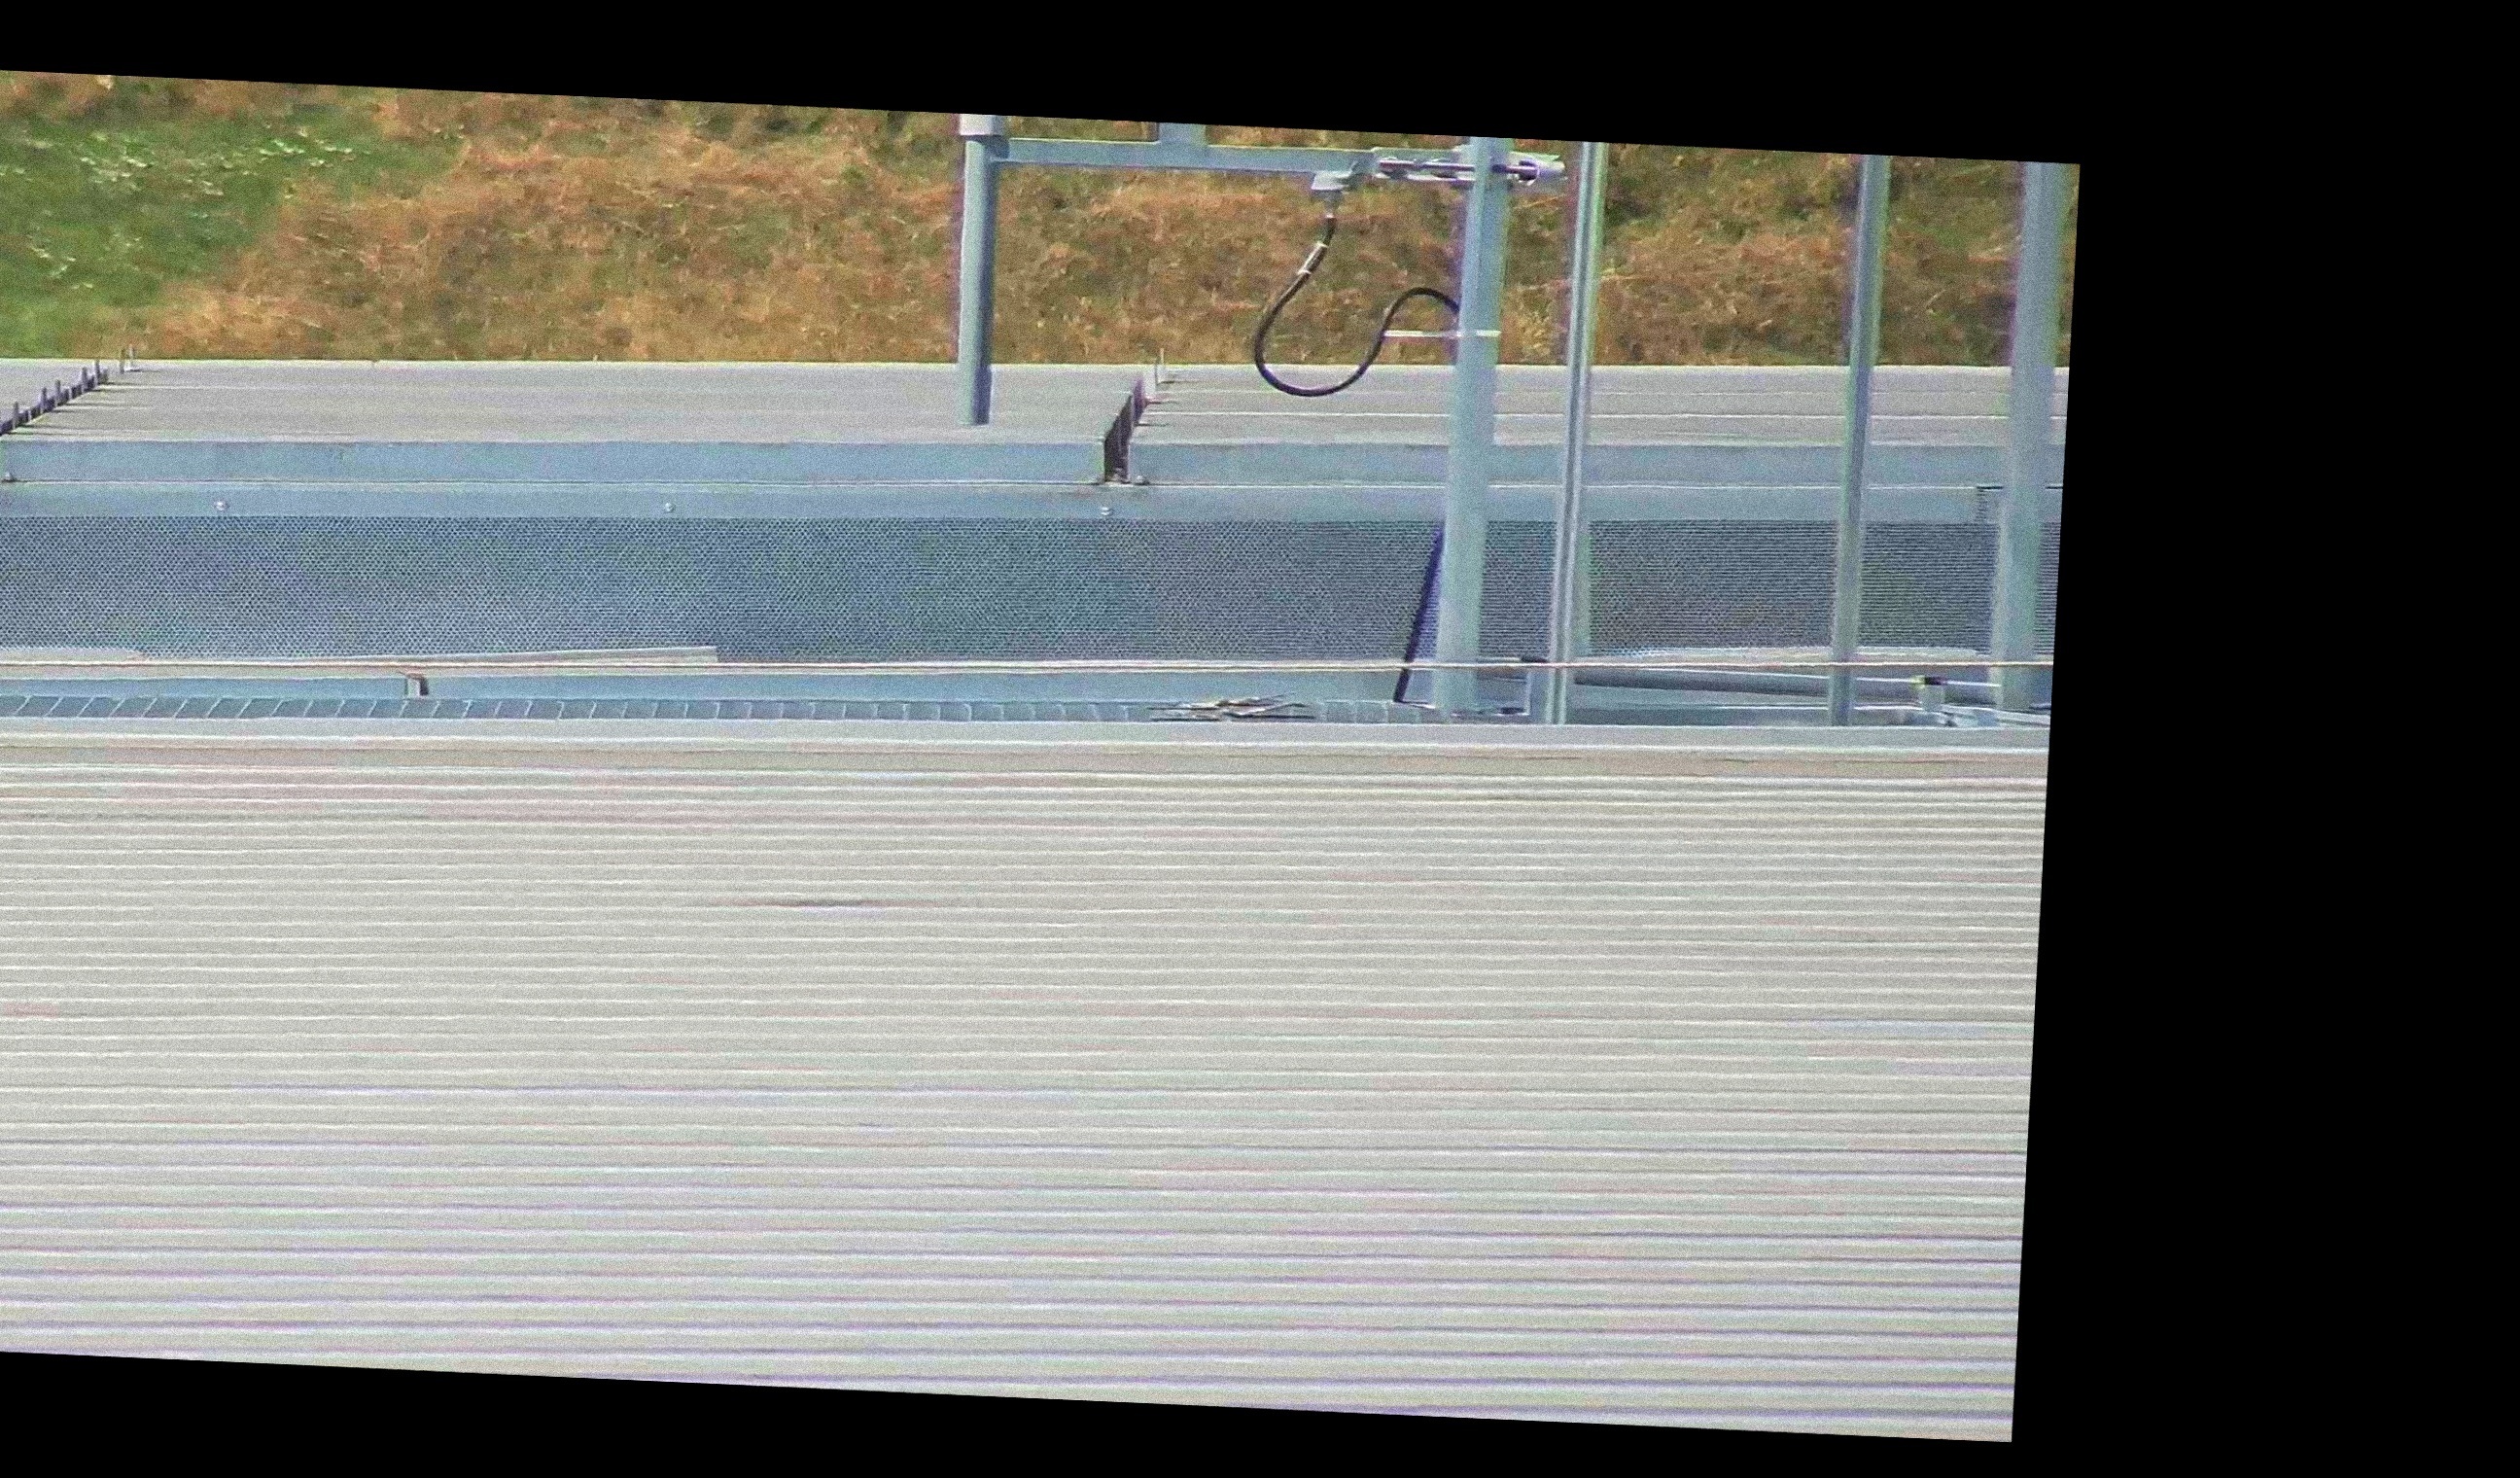Other: (1090, 362, 1184, 486)
